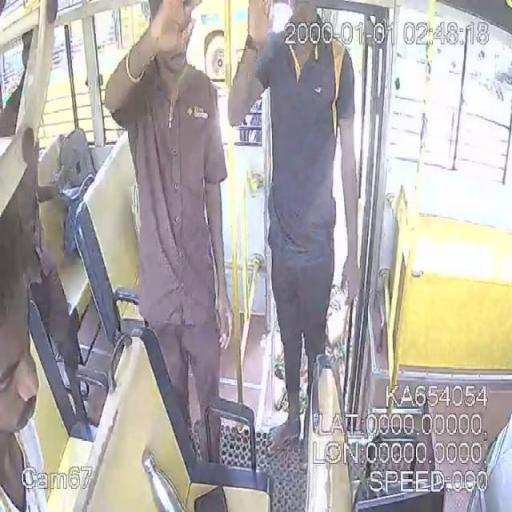persona: (227, 0, 361, 455), (103, 0, 233, 459)
